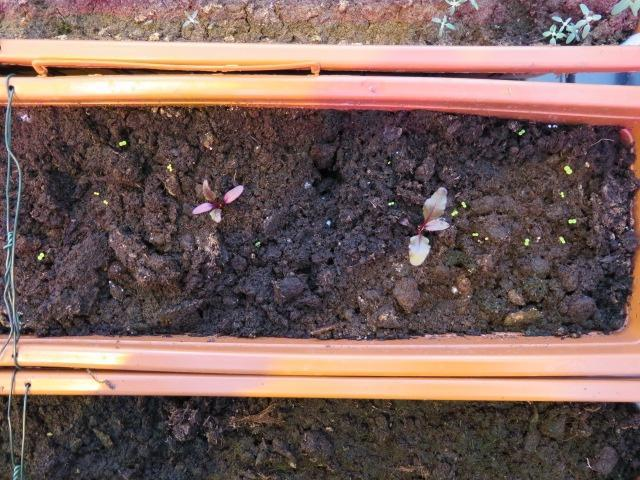crop: (186, 176, 245, 227)
weed: (176, 6, 203, 27), (114, 136, 129, 149), (34, 247, 45, 262), (561, 161, 572, 176), (520, 231, 530, 247), (514, 125, 526, 138), (163, 159, 173, 174), (556, 185, 564, 201), (563, 215, 577, 224), (557, 232, 566, 246), (251, 236, 262, 247), (468, 228, 479, 238), (99, 195, 108, 206), (458, 196, 465, 209), (384, 199, 394, 206), (91, 187, 98, 196)
